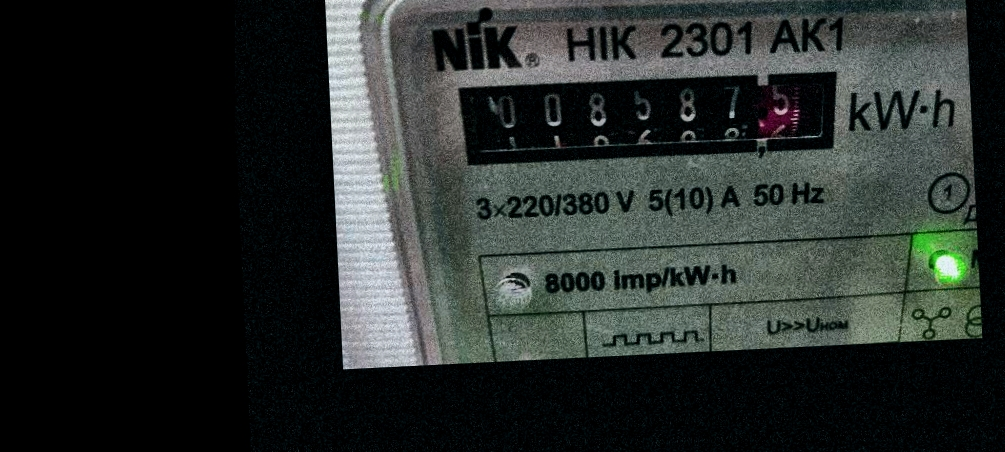0: (539, 88, 565, 129)
1: (493, 90, 519, 132)
5: (768, 77, 794, 119), (630, 84, 655, 123)
7: (719, 81, 744, 123)
8: (583, 87, 610, 130), (675, 83, 698, 125)
screen: (437, 48, 861, 188)
